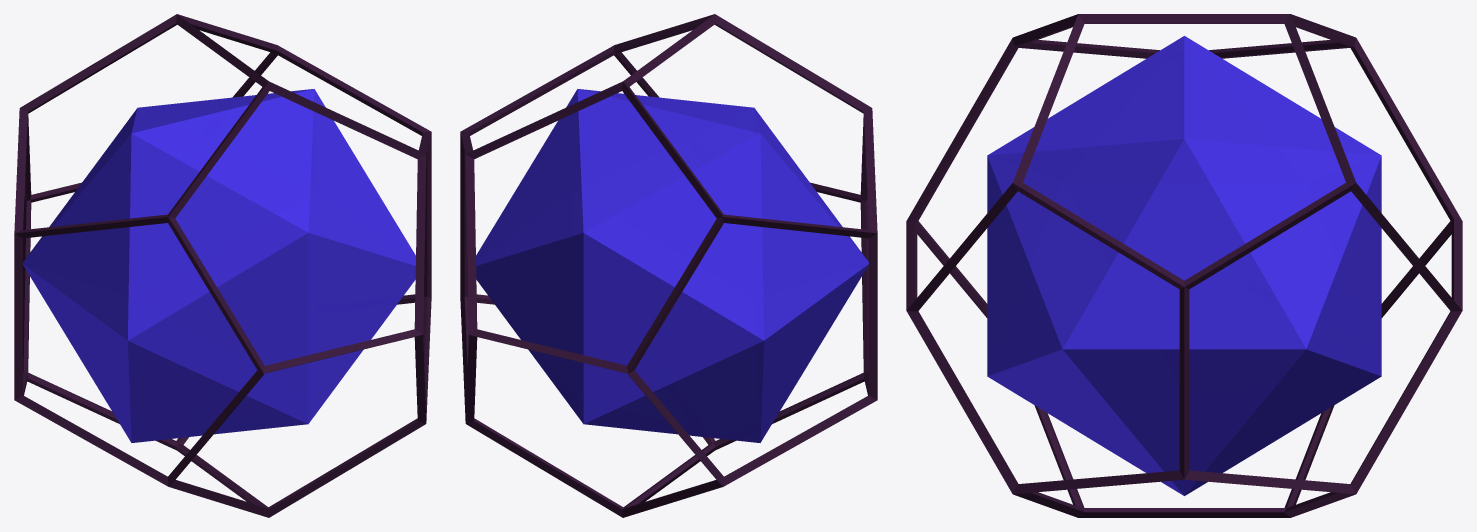
Rendered from dual_dodecaedro.glb.
The picture shows the model from 3 angles, left to right: view 1: azimuth 30°, elevation 25°; view 2: azimuth 150°, elevation 25°; view 3: azimuth 270°, elevation 25°; orthographic projection. The views are drawn at different scales.
Visible parts, largest first — view 1: Solid.001, Solid; view 2: Solid.001, Solid; view 3: Solid.001, Solid.
Part boxes in pixels (x1,y1,x2,y2): Solid.001: (23,89,415,442); Solid: (14,14,431,517); Solid.001: (476,89,868,442); Solid: (460,14,877,517); Solid.001: (987,36,1381,495); Solid: (906,14,1462,517).
Size of the model in its own units: 3.81 by 3.81 by 3.81.
